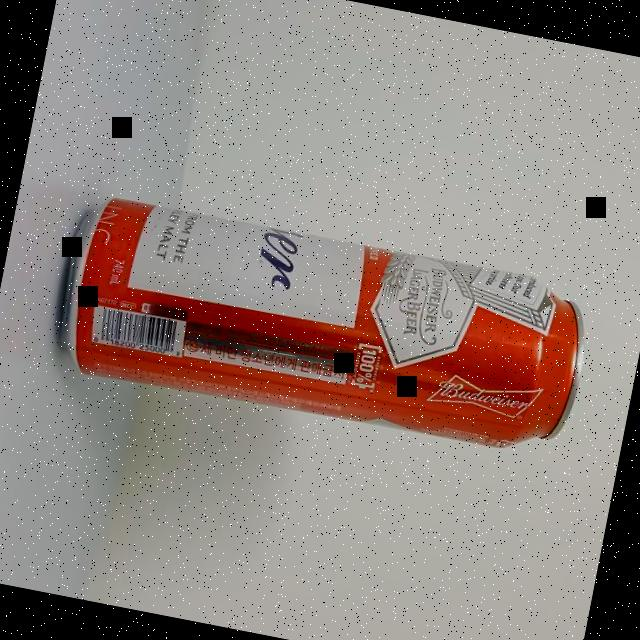can: (48, 187, 598, 466)
